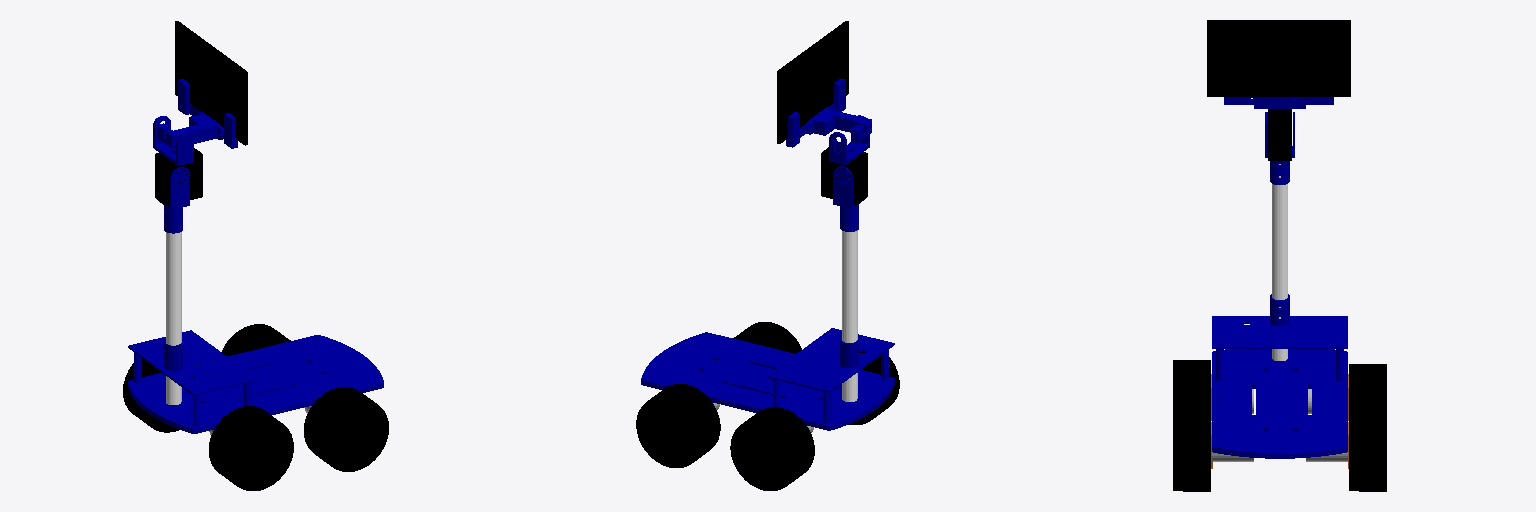
robot.urdf — Rodney:
<?xml version="1.0"?>
<robot name="Rodney">

  <!-- The mass values need checking and then the moments of inertia changing for any mass changes --> 
  
  <material name="blue">
    <color rgba="0 0 0.8 1"/>
  </material>
  
  <material name="white">
    <color rgba="1 1 1 1"/>
  </material>
  
  <material name="black">
    <color rgba="0 0 0 1"/>
  </material>  
  
  <material name="silver">
    <color rgba="0.75 0.75 0.75 1"/>
  </material>   
  
  <material name="bronze">
    <color rgba="0.8 0.498 0.196 1"/>
  </material>  
  
  <link name="base_link">
    <visual>      
      <geometry>        
        <mesh filename="package://rodney/meshes/rodneyBase.dae"/>        
      </geometry>      
    </visual>
    <collision>
      <geometry>
        <box size="0.340 0.180 0.008"/>
      </geometry>
      <origin xyz="0.0 0.0 0.004"/>
    </collision>
    <inertial>
      <mass value="2"/>
      <inertia ixx="0.005411" ixy="0.0" ixz="0.0" iyy="0.024667" iyz="0.0" izz="0.019277"/>      
    </inertial>
  </link>
  
  <!-- Motors and wheels -->
  
  <!-- Front left -->

  <link name="front_left_motor_bracket">
    <visual>
      <geometry>
        <box size="0.042 0.049 0.002"/>
      </geometry>      
      <origin rpy="1.58 0 0" xyz="0.0 0.0 -0.0245"/>
      <material name="bronze"/>
    </visual>
    <collision>
      <geometry>
        <box size="0.042 0.049 0.002"/>
      </geometry>
      <origin rpy="1.58 0 0" xyz="0.0 0.0 -0.0245"/>
    </collision>
    <inertial>
      <mass value="0.035"/>
      <inertia ixx="7.01e-6" ixy="0.0" ixz="0.0" iyy="1.21e-5" iyz="0.0" izz="5.16e-6"/>
    </inertial>    
  </link>

  <joint name="base_to_fl_motor_brk" type="fixed">
    <parent link="base_link"/>
    <child link="front_left_motor_bracket"/>
    <origin xyz="0.075 0.091 0.0"/>
  </joint>
        
  <link name="front_left_motor">
    <visual>
      <geometry>
        <cylinder length="0.056" radius="0.0185"/>
      </geometry>
      <origin rpy="1.57 0 0" xyz="0.0 -0.028 0.0"/>
      <material name="silver"/>
    </visual>
    <collision>
      <geometry>
        <cylinder length="0.056" radius="0.0185"/>
      </geometry>
      <origin rpy="1.57 0 0" xyz="0.0 -0.028 0.0"/>
    </collision>
    <inertial>
      <mass value="0.198"/>
      <inertia ixx="6.86854e-5" ixy="0.0" ixz="0.0" iyy="6.86854e-5" iyz="0.0" izz="3.38828e-5"/>
    </inertial>               
  </link>
  
  <joint name="fl_brk_to_fl_motor" type="fixed">
    <parent link="front_left_motor_bracket"/>
    <child link="front_left_motor"/>    
    <origin xyz="0.0 -0.001 -0.028"/>
  </joint>
 
  <link name="front_left_wheel">
    <visual>
      <geometry>
        <cylinder length="0.050" radius="0.053"/>
      </geometry>
      <origin rpy="1.57 0 0" xyz="0.0 0.025 0.0"/>      
      <material name="black"/>
    </visual>
    <collision>
      <geometry>
        <cylinder length="0.050" radius="0.053"/>
      </geometry>
      <origin rpy="1.57 0 0" xyz="0.0 0.025 0.0"/>     
    </collision>
    <inertial>
      <mass value="0.105"/>
      <inertia ixx="9.56113e-5" ixy="0.0" ixz="0.0" iyy="9.56113e-5" iyz="0.0" izz="0.000147473"/>
    </inertial>   
  </link>
  
  <joint name="fl_brk_to_wheel" type="continuous">
    <axis xyz="0 1 0"/>
    <parent link="front_left_motor_bracket"/>
    <child link="front_left_wheel"/>
    <origin xyz="0.0 0.001 -0.034"/>
  </joint>
  
  <!-- Front right -->
  
  <link name="front_right_motor_bracket">
    <visual>
      <geometry>
        <box size="0.042 0.049 0.002"/>
      </geometry>
      <origin rpy="1.58 0 0" xyz="0.0 0.0 -0.0245"/>      
      <material name="bronze"/>
    </visual>
    <collision>
      <geometry>
        <box size="0.042 0.049 0.002"/>
      </geometry>
      <origin rpy="1.58 0 0" xyz="0.0 0.0 -0.0245"/>
    </collision>
    <inertial>
      <mass value="0.035"/>
      <inertia ixx="7.01e-6" ixy="0.0" ixz="0.0" iyy="1.21e-5" iyz="0.0" izz="5.16e-6"/>
    </inertial>     
  </link>

  <joint name="base_to_fr_motor_brk" type="fixed">
    <parent link="base_link"/>
    <child link="front_right_motor_bracket"/>
    <origin xyz="0.075 -0.091 0.0"/>
  </joint>
           
  <link name="front_right_motor">
    <visual>
      <geometry>
        <cylinder length="0.056" radius="0.0185"/>
      </geometry>
      <origin rpy="1.57 0 0" xyz="0.0 0.028 0.0"/>      
      <material name="silver"/>
    </visual>
    <collision>
      <geometry>
        <cylinder length="0.056" radius="0.0185"/>
      </geometry>
      <origin rpy="1.57 0 0" xyz="0.0 0.028 0.0"/>
    </collision>
    <inertial>
      <mass value="0.198"/>
      <inertia ixx="6.86854e-5" ixy="0.0" ixz="0.0" iyy="6.86854e-5" iyz="0.0" izz="3.38828e-5"/>
    </inertial>     
  </link>
  
  <joint name="fr_brk_to_fr_motor" type="fixed">
    <parent link="front_right_motor_bracket"/>
    <child link="front_right_motor"/>    
    <origin xyz="0.0 0.001 -0.028"/>
  </joint>
   
  <link name="front_right_wheel">
    <visual>
      <geometry>
        <cylinder length="0.050" radius="0.053"/>
      </geometry>
      <origin rpy="1.57 0 0" xyz="0.0 -0.025 0.0"/>      
      <material name="black"/>
    </visual>
    <collision>
      <geometry>
        <cylinder length="0.050" radius="0.053"/>
      </geometry>
      <origin rpy="1.57 0 0" xyz="0.0 -0.025 0.0"/>     
    </collision>
    <inertial>
      <mass value="0.105"/>
      <inertia ixx="9.56113e-5" ixy="0.0" ixz="0.0" iyy="9.56113e-5" iyz="0.0" izz="0.000147473"/>
    </inertial>    
  </link>
  
  <joint name="fr_brk_to_wheel" type="continuous">
    <axis xyz="0 1 0"/>
    <parent link="front_right_motor_bracket"/>
    <child link="front_right_wheel"/>
    <origin xyz="0.0 -0.001 -0.034"/>
  </joint>

  <!-- Rear left -->
 
  <link name="rear_left_motor_bracket">
    <visual>
      <geometry>
        <box size="0.042 0.049 0.002"/>
      </geometry>
      <origin rpy="1.58 0 0" xyz="0.0 0.0 -0.0245"/>      
      <material name="bronze"/>
    </visual>
    <collision>
      <geometry>
        <box size="0.042 0.049 0.002"/>
      </geometry>
      <origin rpy="1.58 0 0" xyz="0.0 0.0 -0.0245"/>
    </collision>
    <inertial>
      <mass value="0.035"/>
      <inertia ixx="7.01e-6" ixy="0.0" ixz="0.0" iyy="1.21e-5" iyz="0.0" izz="5.16e-6"/>
    </inertial>     
  </link>

  <joint name="base_to_rl_motor_brk" type="fixed">
    <parent link="base_link"/>
    <child link="rear_left_motor_bracket"/>    
    <origin xyz="-0.075 0.091 0.0"/>
  </joint>
       
  <link name="rear_left_motor">
    <visual>
      <geometry>
        <cylinder length="0.056" radius="0.0185"/>
      </geometry>
      <origin rpy="1.57 0 0" xyz="0.0 -0.028 0.0"/>      
      <material name="silver"/>
    </visual>
    <collision>
      <geometry>
        <cylinder length="0.056" radius="0.0185"/>
      </geometry>
      <origin rpy="1.57 0 0" xyz="0.0 -0.028 0.0"/>
    </collision>
    <inertial>
      <mass value="0.198"/>
      <inertia ixx="6.86854e-5" ixy="0.0" ixz="0.0" iyy="6.86854e-5" iyz="0.0" izz="3.38828e-5"/>
    </inertial>     
  </link>
  
  <joint name="rl_brk_to_rl_motor" type="fixed">
    <parent link="rear_left_motor_bracket"/>
    <child link="rear_left_motor"/>
    <origin xyz="0.0 -0.001 -0.028"/>
  </joint>
   
  <link name="rear_left_wheel">
    <visual>
      <geometry>
        <cylinder length="0.050" radius="0.053"/>
      </geometry>
      <origin rpy="1.57 0 0" xyz="0.0 0.025 0.0"/>      
      <material name="black"/>
    </visual>
    <collision>
      <geometry>
        <cylinder length="0.050" radius="0.053"/>
      </geometry>
      <origin rpy="1.57 0 0" xyz="0.0 0.025 0.0"/>     
    </collision>
    <inertial>
      <mass value="0.105"/>
      <inertia ixx="9.56113e-5" ixy="0.0" ixz="0.0" iyy="9.56113e-5" iyz="0.0" izz="0.000147473"/>
    </inertial>    
  </link>
  
  <joint name="rl_brk_to_wheel" type="continuous">
    <axis xyz="0 1 0"/>
    <parent link="rear_left_motor_bracket"/>
    <child link="rear_left_wheel"/>
    <origin xyz="0.0 0.001 -0.034"/>
  </joint>

  <!-- Rear right -->
  
  <link name="rear_right_motor_bracket">
    <visual>
      <geometry>
        <box size="0.042 0.049 0.002"/>
      </geometry>
      <origin rpy="1.58 0 0" xyz="0.0 0.0 -0.0245"/>      
      <material name="bronze"/>
    </visual>
    <collision>
      <geometry>
        <box size="0.042 0.049 0.002"/>
      </geometry>
      <origin rpy="1.58 0 0" xyz="0.0 0.0 -0.0245"/>
    </collision>
    <inertial>
      <mass value="0.035"/>
      <inertia ixx="7.01e-6" ixy="0.0" ixz="0.0" iyy="1.21e-5" iyz="0.0" izz="5.16e-6"/>
    </inertial> 
  </link>

  <joint name="base_to_rr_motor_brk" type="fixed">
    <parent link="base_link"/>
    <child link="rear_right_motor_bracket"/>
    <origin xyz="-0.075 -0.091 0.0"/>
  </joint>
        
  <link name="rear_right_motor">
    <visual>
      <geometry>
        <cylinder length="0.056" radius="0.0185"/>
      </geometry>
      <origin rpy="1.57 0 0" xyz="0.0 0.028 0.0"/>      
      <material name="silver"/>
    </visual>
    <collision>
      <geometry>
        <cylinder length="0.056" radius="0.0185"/>
      </geometry>
      <origin rpy="1.57 0 0" xyz="0.0 0.028 0.0"/>
    </collision>
    <inertial>
      <mass value="0.198"/>
      <inertia ixx="6.86854e-5" ixy="0.0" ixz="0.0" iyy="6.86854e-5" iyz="0.0" izz="3.38828e-5"/>
    </inertial>     
  </link>
  
  <joint name="rr_brk_to_rr_motor" type="fixed">
    <parent link="rear_right_motor_bracket"/>
    <child link="rear_right_motor"/>
    <origin xyz="0.0 0.001 -0.028"/>
  </joint>
  
  <link name="rear_right_wheel">
    <visual>
      <geometry>
        <cylinder length="0.050" radius="0.053"/>
      </geometry>
      <origin rpy="1.57 0 0" xyz="0.0 -0.025 0.0"/>      
      <material name="black"/>
    </visual>
    <collision>
      <geometry>
        <cylinder length="0.050" radius="0.053"/>
      </geometry>
      <origin rpy="1.57 0 0" xyz="0.0 -0.025 0.0"/>     
    </collision>
    <inertial>
      <mass value="0.105"/>
      <inertia ixx="9.56113e-5" ixy="0.0" ixz="0.0" iyy="9.56113e-5" iyz="0.0" izz="0.000147473"/>
    </inertial>    
  </link>
  
  <joint name="rr_brk_to_wheel" type="continuous">
    <axis xyz="0 1 0"/>
    <parent link="rear_right_motor_bracket"/>
    <child link="rear_right_wheel"/>
    <origin xyz="0.0 -0.001 -0.028"/>
  </joint>
       
  <!-- Rear platform -->
  
  <link name="post_1">
    <visual>
      <geometry>
        <cylinder length="0.05" radius="0.005"/>
      </geometry>
      <origin xyz="0.0 0.0 0.025"/>      
      <material name="blue"/>
    </visual>
    <collision>
      <geometry>
        <cylinder length="0.05" radius="0.005"/>
      </geometry>
      <origin xyz="0.0 0.0 0.025"/> 
    </collision>
    <inertial>
      <mass value="0.009"/>
      <inertia ixx="1.93125e-6" ixy="0.0" ixz="0.0" iyy="1.93125e-6" iyz="0.0" izz="1.125e-7"/>
    </inertial>           
  </link>
  
  <joint name="base_to_post_1" type="fixed">
    <parent link="base_link"/>
    <child link="post_1"/>
    <origin xyz="-0.06 0.08 0.008"/>
  </joint>
 
  <link name="post_2">
    <visual>
      <geometry>
        <cylinder length="0.05" radius="0.005"/>
      </geometry>
      <origin xyz="0.0 0.0 0.025"/>      
      <material name="blue"/>
    </visual>
    <collision>
      <geometry>
        <cylinder length="0.05" radius="0.005"/>
      </geometry>
      <origin xyz="0.0 0.0 0.025"/> 
    </collision>
    <inertial>
      <mass value="0.009"/>
      <inertia ixx="1.93125e-6" ixy="0.0" ixz="0.0" iyy="1.93125e-6" iyz="0.0" izz="1.125e-7"/>
    </inertial>    
  </link>
  
  <joint name="base_to_post_2" type="fixed">
    <parent link="base_link"/>
    <child link="post_2"/>
    <origin xyz="-0.14 0.08 0.008"/>
  </joint>
  
  <link name="post_3">
    <visual>
      <geometry>
        <cylinder length="0.05" radius="0.005"/>
      </geometry>
      <origin xyz="0.0 0.0 0.025"/>      
      <material name="blue"/>
    </visual>
    <collision>
      <geometry>
        <cylinder length="0.05" radius="0.005"/>
      </geometry>
      <origin xyz="0.0 0.0 0.025"/> 
    </collision>
    <inertial>
      <mass value="0.009"/>
      <inertia ixx="1.93125e-6" ixy="0.0" ixz="0.0" iyy="1.93125e-6" iyz="0.0" izz="1.125e-7"/>
    </inertial>    
  </link>
  
  <joint name="base_to_post_3" type="fixed">
    <parent link="base_link"/>
    <child link="post_3"/>
    <origin xyz="-0.06 -0.08 0.008"/>
  </joint>    
 
  <link name="post_4">
    <visual>
      <geometry>
        <cylinder length="0.05" radius="0.005"/>
      </geometry>
      <origin xyz="0.0 0.0 0.025"/>      
      <material name="blue"/>
    </visual>
    <collision>
      <geometry>
        <cylinder length="0.05" radius="0.005"/>
      </geometry>
      <origin xyz="0.0 0.0 0.025"/> 
    </collision>
    <inertial>
      <mass value="0.009"/>
      <inertia ixx="1.93125e-6" ixy="0.0" ixz="0.0" iyy="1.93125e-6" iyz="0.0" izz="1.125e-7"/>
    </inertial>    
  </link>
  
  <joint name="base_to_post_4" type="fixed">
    <parent link="base_link"/>
    <child link="post_4"/>
    <origin xyz="-0.14 -0.08 0.008"/>
  </joint>

  <link name="rear_platform">
    <visual>      
      <geometry>        
        <mesh filename="package://rodney/meshes/smallRearPlatform.dae"/>
      </geometry>
      <origin rpy="0 0 1.57" xyz="0.010 -0.080 0.0"/>              
    </visual>
    <collision>      
      <geometry>        
        <box size="0.180 0.098 0.003"/>
      </geometry>
      <origin rpy="0 0 1.57" xyz="-0.04 -0.080 0.0015"/>              
    </collision> 
    <inertial>
      <mass value="0.061"/>
      <inertia ixx="4.89e-5" ixy="0.0" ixz="0.0" iyy="0.000214" iyz="0.0" izz="0.000165"/>
    </inertial>        
  </link>  

  <joint name="post_1_to_rear_platform" type="fixed">
    <parent link="post_1"/>
    <child link="rear_platform"/>
    <origin xyz="0.0 0.0 0.05"/>
  </joint>

  <!-- Neck and head -->
   
  <link name="neck">
    <visual>
      <geometry>
        <cylinder length="0.30" radius="0.011"/>
      </geometry>
      <origin xyz="0 0.0 0.15"/>      
      <material name="white"/>
    </visual>
    <collision>
      <geometry>
        <cylinder length="0.30" radius="0.011"/>
      </geometry>
      <origin xyz="0 0.0 0.15"/>            
    </collision>
    <inertial>
      <mass value="0.030"/>
      <inertia ixx="0.000225908" ixy="0.0" ixz="0.0" iyy="0.000225908" iyz="0.0" izz="0.000001815"/>
    </inertial>         
  </link>
  
  <joint name="rear_platform_to_neck" type="fixed">
    <parent link="rear_platform"/>
    <child link="neck"/>
    <origin xyz="-0.070 -0.080 -0.050"/>
  </joint>  
  
  <link name="head_fixing">
    <visual>      
      <geometry>        
        <mesh filename="package://rodney/meshes/headFixing.dae"/>
      </geometry>
      <origin xyz="0.0 0.0 -0.040"/>            
    </visual>
    <collision>
      <geometry>        
        <box size="0.03 0.04 0.1"/>
      </geometry>
      <origin xyz="0.0 0.0 0.010"/> 
    </collision>
    <inertial>
      <mass value="0.015"/>
      <inertia ixx="1.48e-5" ixy="0.0" ixz="0.0" iyy="3.13e-6" iyz="0.0" izz="1.36e-5"/>
    </inertial>    
  </link>  

  <joint name="neck_to_head_fixing" type="fixed">
    <parent link="neck"/>
    <child link="head_fixing"/>
    <origin xyz="0.0 0.0 0.30"/>
  </joint>
  
  <link name="head_pan_servo_block">
    <visual>
      <geometry>
        <box size="0.057 0.032 0.066"/>        
      </geometry>
      <origin xyz="0.008 0.0 -0.008"/>      
      <material name="black"/>
    </visual>
    <collision>
      <geometry>
        <box size="0.057 0.032 0.066"/>        
      </geometry>
      <origin xyz="0.008 0.0 -0.008"/>
    </collision>
    <inertial>
      <mass value="0.015"/>
      <inertia ixx="6.73e-6" ixy="0.0" ixz="0.0" iyy="5.34e-6" iyz="0.0" izz="9.51e-6"/>
    </inertial>               
  </link>      

  <joint name="head_fixing_to_servo_block" type="fixed">
    <parent link="head_fixing"/>
    <child link="head_pan_servo_block"/>
    <origin xyz="0.0 0.0 0.047"/>
  </joint>

  <link name="head_pan_bracket">
    <visual>      
      <geometry>        
        <mesh filename="package://rodney/meshes/headPanBracket.dae"/>
      </geometry>            
    </visual>
    <collision>
      <geometry>
        <box size="0.025 0.068 0.045"/>
      </geometry>
      <origin xyz="0.0 0.0 0.0225"/>
    </collision>
    <inertial>
      <mass value="0.020"/>   
      <inertia ixx="1.11e-5" ixy="0.0" ixz="0.0" iyy="8.75e-6" iyz="0.0" izz="4.42e-6"/> 
    </inertial>           
  </link>
    
  <joint name="servo_block_to_head_pan_bracket" type="revolute">
    <axis xyz="0 0 1"/>
    <limit effort="1000.0" lower="-1.571" upper="1.571" velocity="0.5"/>
    <parent link="head_pan_servo_block"/>
    <child link="head_pan_bracket"/>
    <origin xyz="0.0 0.0 0.025"/>    
  </joint> 

  <link name="head_tilt_arm">
    <visual>      
      <geometry>        
        <mesh filename="package://rodney/meshes/headTiltArm.dae"/>
      </geometry>            
    </visual>
    <collision>
      <geometry>
        <box size="0.075 0.065 0.020"/>
      </geometry>
      <origin xyz="0.018 0.0 0.00"/> 
    </collision>
    <inertial>
      <mass value="0.020"/>   
      <inertia ixx="7.71e-6" ixy="0.0" ixz="0.0" iyy="1.64e-5" iyz="0.0" izz="1e-5"/> 
    </inertial>        
    
  </link>    

  <joint name="head_pan_bracket_to_head_tilt_arm" type="revolute">
    <axis xyz="0 1 0"/>
    <limit effort="1000.0" lower="-1.572" upper="0.3" velocity="0.5"/>
    <parent link="head_pan_bracket"/>
    <child link="head_tilt_arm"/>
    <origin xyz="0.0 -0.009 0.035"/>
  </joint>           
     
  <link name="display_bracket">
    <visual>      
      <geometry>        
        <mesh filename="package://rodney/meshes/displayBracket.dae"/>
      </geometry>
      <origin xyz="0.003 0.008 0.0"/>            
    </visual>
    <collision>
      <geometry>
        <box size="0.010 0.146 0.045"/>        
      </geometry>
      <origin xyz="-0.002 0.008 0.015"/>  
    </collision>    
    <inertial>
      <mass value="0.020"/>   
      <inertia ixx="4.82e-7" ixy="0.0" ixz="0.0" iyy="2.73e-7" iyz="0.0" izz="5.42e-7"/> 
    </inertial> 
  </link>    

  <joint name="head_tilt_arm_to_display_bracket" type="fixed">
    <parent link="head_tilt_arm"/>
    <child link="display_bracket"/>
    <origin xyz="0.056 0.0 0.0"/>
  </joint> 

  <link name="display">
    <visual>      
      <geometry>        
        <box size="0.005 0.192 0.110"/>
      </geometry>      
      <material name="black"/>           
    </visual>
    <collision>
      <geometry>
        <box size="0.005 0.192 0.110"/>        
      </geometry>        
    </collision>  
    <inertial>
      <mass value="0.010"/>   
      <!--<inertia ixx="4.08e-5" ixy="0.0" ixz="0.0" iyy="3.07e-5" iyz="0.0" izz="1.01e-5"/>-->
      <inertia ixx="1.0" ixy="0.0" ixz="0.0" iyy="1.0" iyz="0.0" izz="1.0"/>
    </inertial>    
  </link>    

  <joint name="display_bracket_to_display" type="fixed">
    <parent link="display_bracket"/>
    <child link="display"/>
    <origin xyz="0.003 0.008 0.060"/>
  </joint> 

  <!-- Gazebo stuff -->
  
  <gazebo reference="front_left_wheel">
    <material>Gazebo/Black</material>
  </gazebo>
  
  <gazebo reference="front_right_wheel">
    <material>Gazebo/Black</material>
  </gazebo>
 
  <gazebo reference="rear_left_wheel">
    <material>Gazebo/Black</material>
  </gazebo>
  
  <gazebo reference="rear_right_wheel">
    <material>Gazebo/Black</material>
  </gazebo>
  
  <gazebo>
    <plugin name="skid_steer_drive_controller" filename="libgazebo_ros_skid_steer_drive.so">
      <updateRate>100.0</updateRate>      
      <robotNamespace>/</robotNamespace>
      <leftFrontJoint>fl_brk_to_wheel</leftFrontJoint>
      <rightFrontJoint>fr_brk_to_wheel</rightFrontJoint>
      <leftRearJoint>rl_brk_to_wheel</leftRearJoint> 
      <rightRearJoint>rr_brk_to_wheel</rightRearJoint>        
      <wheelSeparation>0.180</wheelSeparation>       
      <wheelDiameter>0.106</wheelDiameter>
      <robotBaseFrame>base_link</robotBaseFrame>           
      <torque>1</torque>
      <commandTopic>cmd_vel</commandTopic>
      <broadcastTF>0</broadcastTF>     
    </plugin>    
  </gazebo>
 
</robot>
 

--- What the picture shows (computed from the rendered views, not written in the file) ---
The picture shows the robot from 3 angles, left to right: view 1: azimuth 30°, elevation 25°; view 2: azimuth 150°, elevation 25°; view 3: azimuth 270°, elevation 25°; orthographic projection.
Robot: Rodney — 25 links, 24 joints (2 revolute, 4 continuous, 18 fixed); root link base_link; default pose: every joint at zero.
Visible links, largest first — view 1: base_link, rear_right_wheel, front_right_wheel, display, rear_platform, neck, head_pan_servo_block, front_left_wheel, head_fixing, head_tilt_arm, head_pan_bracket, rear_left_wheel (+1 smaller); view 2: base_link, rear_left_wheel, front_left_wheel, display, rear_platform, neck, head_tilt_arm, head_pan_servo_block, front_right_wheel, head_fixing, head_pan_bracket, display_bracket (+1 smaller); view 3: base_link, display, rear_platform, front_left_wheel, front_right_wheel, neck, rear_right_wheel, rear_left_wheel, head_pan_servo_block, display_bracket, head_fixing.
Boxes of the visible links, left/top/right/bottom form: base_link: left=128, top=335, right=383, bottom=433; rear_right_wheel: left=209, top=406, right=293, bottom=490; front_right_wheel: left=304, top=387, right=388, bottom=471; display: left=175, top=21, right=247, bottom=145; rear_platform: left=128, top=330, right=256, bottom=395; neck: left=166, top=232, right=181, bottom=404; head_pan_servo_block: left=155, top=148, right=202, bottom=205; front_left_wheel: left=222, top=324, right=290, bottom=356; head_fixing: left=159, top=167, right=189, bottom=233; head_tilt_arm: left=157, top=112, right=223, bottom=148; head_pan_bracket: left=153, top=116, right=193, bottom=165; rear_left_wheel: left=123, top=358, right=178, bottom=432; base_link: left=641, top=332, right=894, bottom=430; rear_left_wheel: left=730, top=407, right=814, bottom=490; front_left_wheel: left=636, top=384, right=720, bottom=467; display: left=777, top=21, right=848, bottom=143; rear_platform: left=767, top=328, right=894, bottom=392; neck: left=842, top=230, right=857, bottom=401; head_tilt_arm: left=805, top=107, right=871, bottom=143; head_pan_servo_block: left=821, top=147, right=867, bottom=204; front_right_wheel: left=733, top=322, right=801, bottom=353; head_fixing: left=833, top=166, right=864, bottom=231; head_pan_bracket: left=829, top=115, right=869, bottom=164; display_bracket: left=786, top=78, right=845, bottom=147; base_link: left=1212, top=349, right=1347, bottom=458; display: left=1207, top=20, right=1350, bottom=96; rear_platform: left=1212, top=294, right=1347, bottom=348; front_left_wheel: left=1349, top=412, right=1386, bottom=491; front_right_wheel: left=1173, top=412, right=1210, bottom=491; neck: left=1272, top=164, right=1287, bottom=360; rear_right_wheel: left=1173, top=360, right=1210, bottom=411; rear_left_wheel: left=1349, top=364, right=1386, bottom=411; head_pan_servo_block: left=1268, top=109, right=1291, bottom=160; display_bracket: left=1224, top=97, right=1333, bottom=104; head_fixing: left=1265, top=112, right=1294, bottom=184.
Bounding box of the posed robot: 0.3399 × 0.2841 × 0.617 m (x, y, z).
Meshes: 6 distinct files referenced, 6 mesh visuals loaded (6 Collada DAE).
